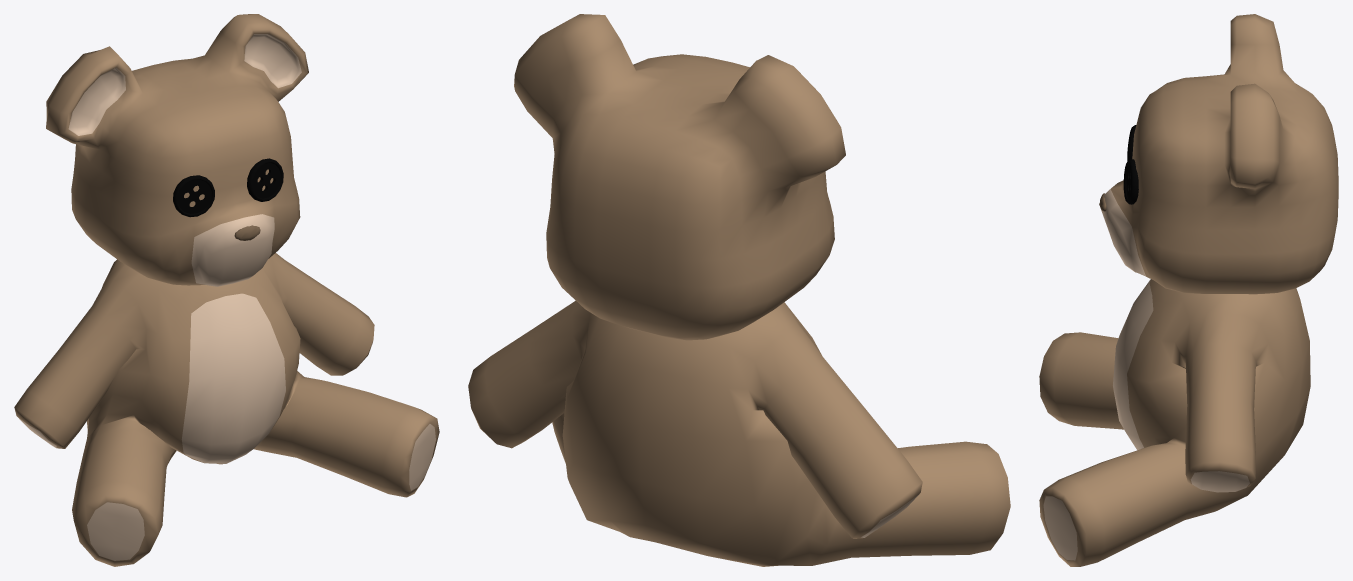
The model's file is teddybear.fbx.
3 views of the same model, side by side, from view 1: azimuth 30°, elevation 25°; view 2: azimuth 150°, elevation 25°; view 3: azimuth 270°, elevation 25° (orthographic). The views are drawn at different scales.
Parts seen in each view (by area): view 1: pCube1, teddybear, pSphere2, pSphere3; view 2: pCube1, teddybear; view 3: pCube1, teddybear, pSphere3.
Boxes of the visible parts, x1,y1,x2,y2 form: pCube1: (14,253,439,566); teddybear: (46,14,308,286); pSphere2: (173,175,214,217); pSphere3: (247,158,283,201); pCube1: (468,300,1010,566); teddybear: (514,14,845,340); pCube1: (1039,279,1310,566); teddybear: (1101,14,1338,294); pSphere3: (1123,159,1138,204).
Size of the model in its own units: 14.38 by 16.27 by 10.01.
